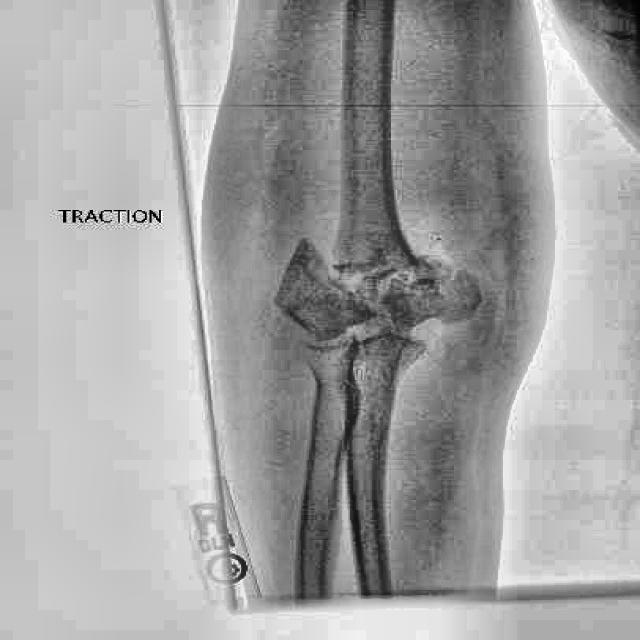elbow positive: (253, 214, 367, 311), (389, 238, 491, 340)
